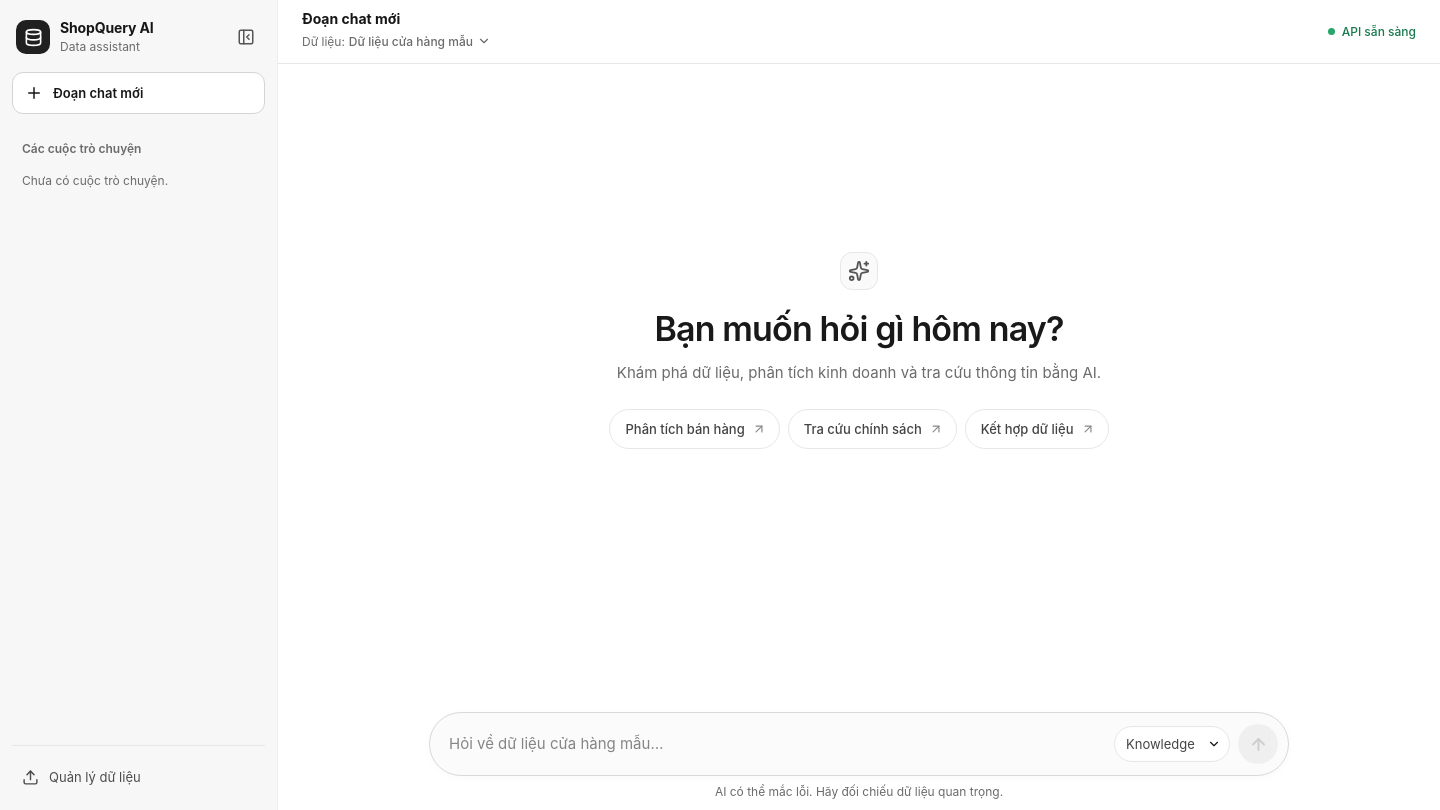
Test case: keeps the composer editable and explains provider denial without creating a chat
In the text box named "Nhập câu hỏi cho ShopQuery AI": (776, 744) [449,723,1104,765], type "Tổng học phí?"
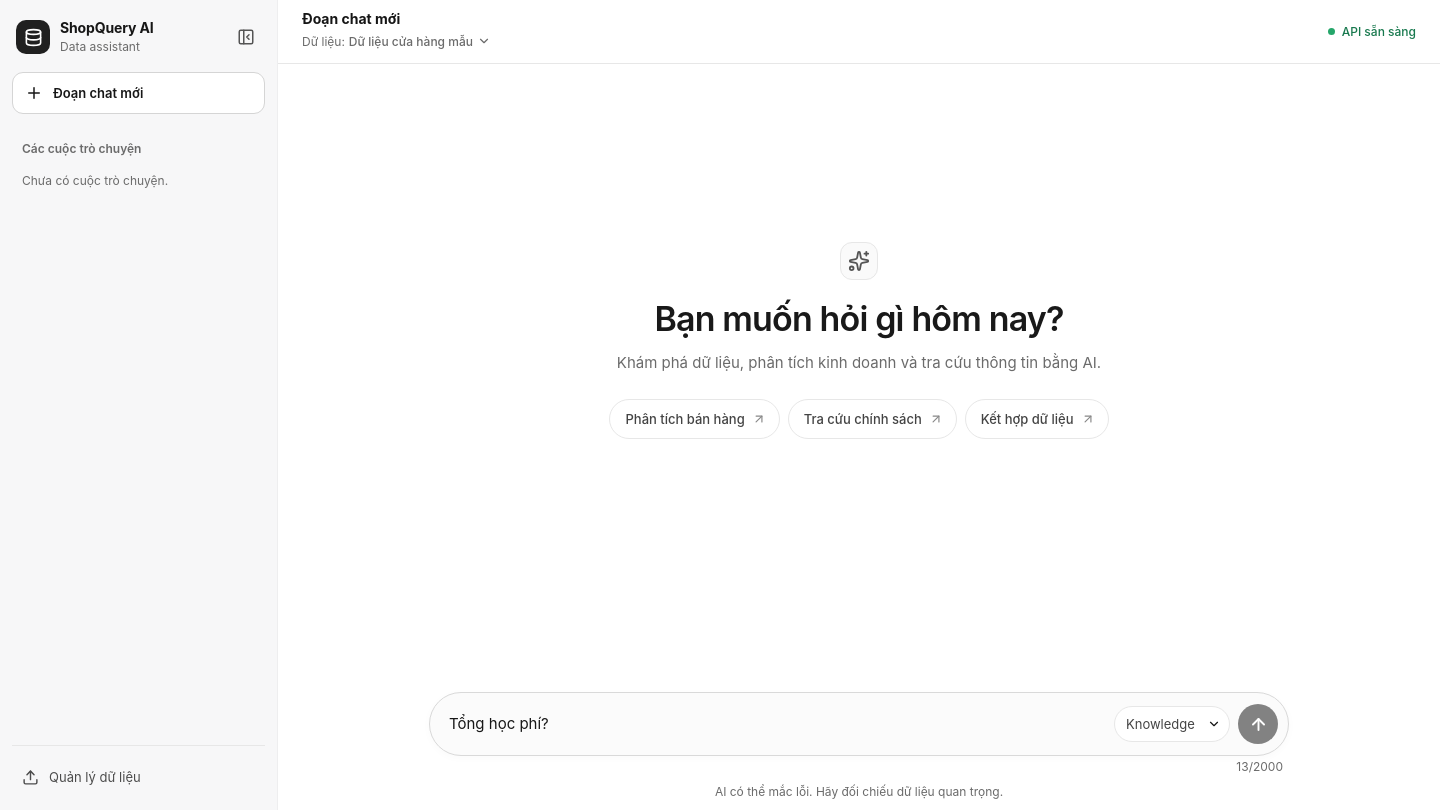
Click the button named "Gửi câu hỏi": (1258, 724) [1238,704,1278,744]
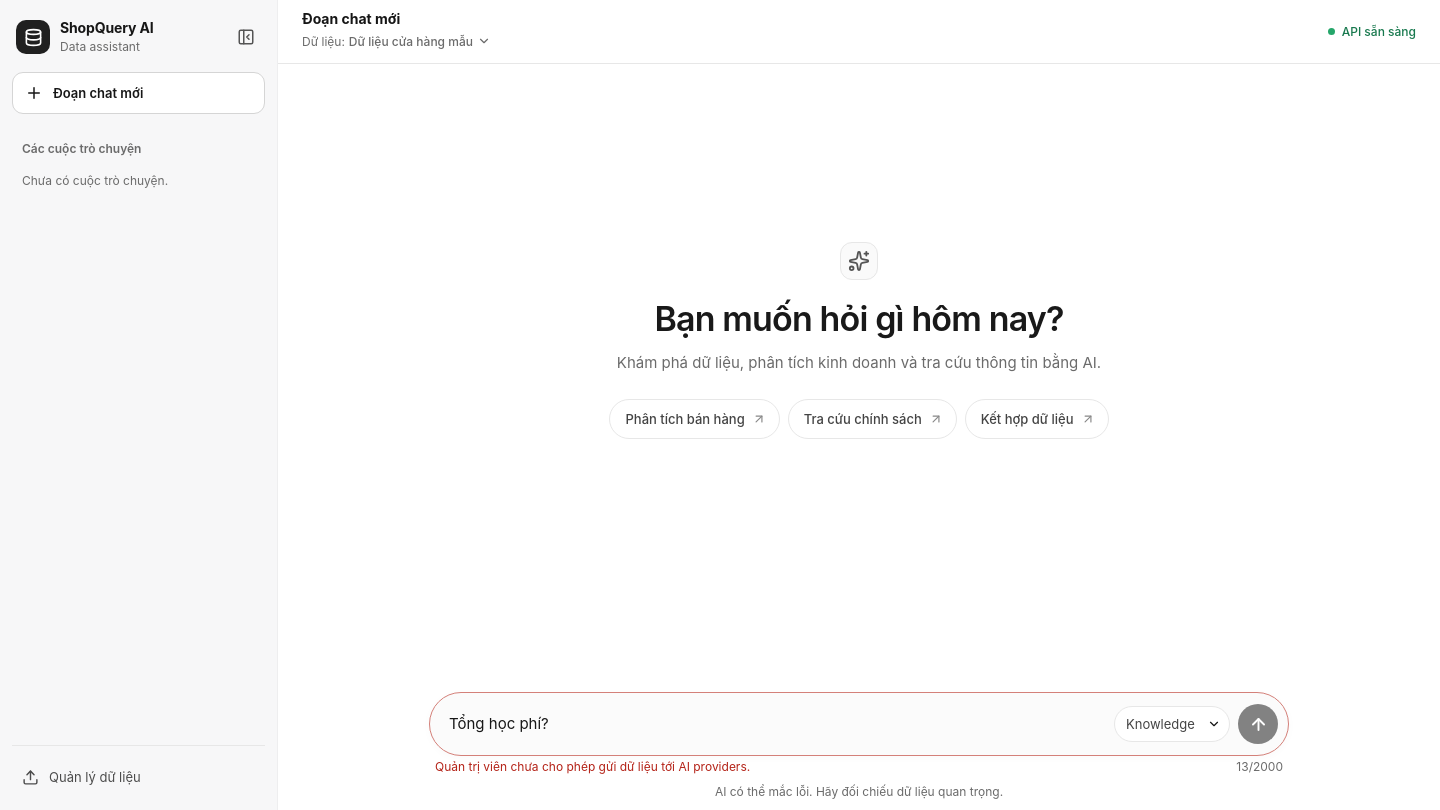
Expected: the message "Quản trị viên chưa cho phép gửi dữ liệu tới AI providers." is shown, [435,759,750,776]
